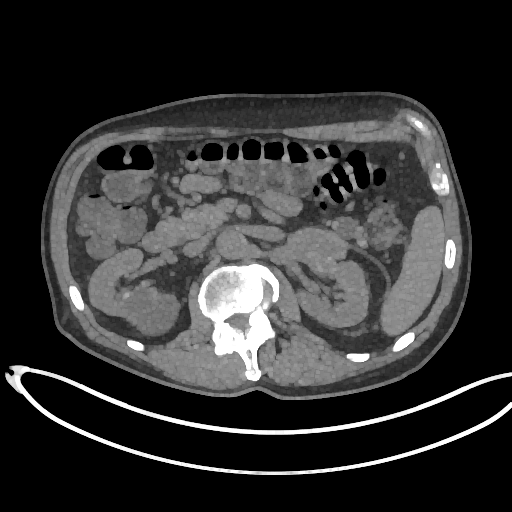Lesion: (286, 225, 352, 266)
